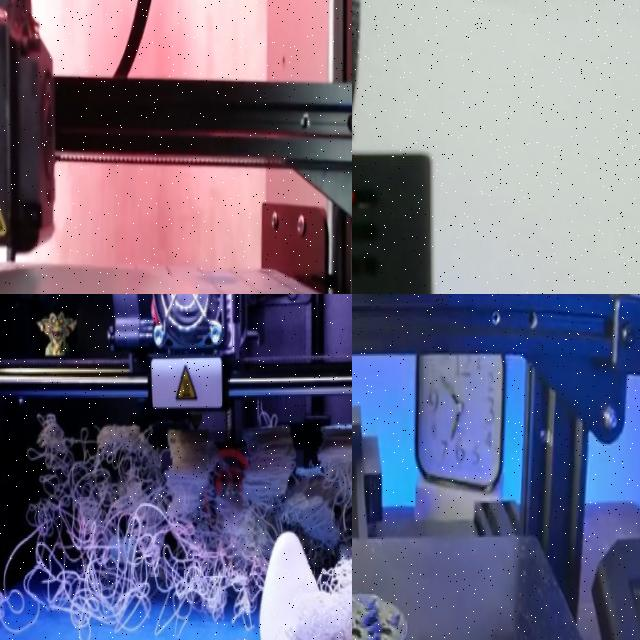spaghetti: (0, 414, 245, 640)
